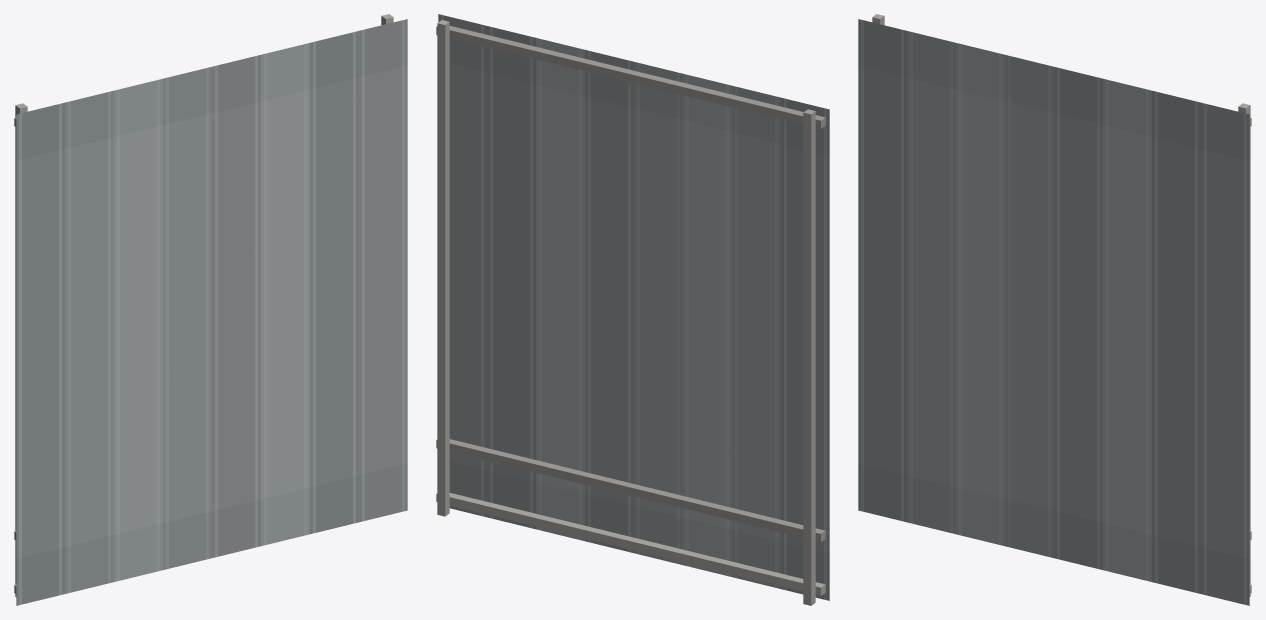
File: 0134_Construction_Fence.glb
3 renders of one model, left to right at view 1: azimuth 30°, elevation 25°; view 2: azimuth 150°, elevation 25°; view 3: azimuth 330°, elevation 25°, orthographic.
Parts seen in each view (by area): view 1: part_0; view 2: part_0; view 3: part_0.
Part boxes in pixels (left/top/right/bottom): part_0: left=14, top=14, right=407, bottom=605; part_0: left=436, top=14, right=829, bottom=605; part_0: left=858, top=14, right=1251, bottom=605.
Bounding box in the file's own units: 2.5 × 3 × 0.1073.
Materials: 1 (1 with a texture image).
